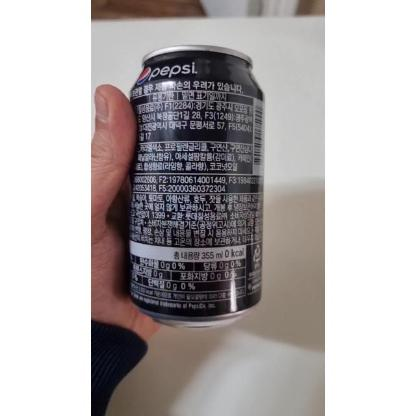Can: (129, 42, 264, 328)
